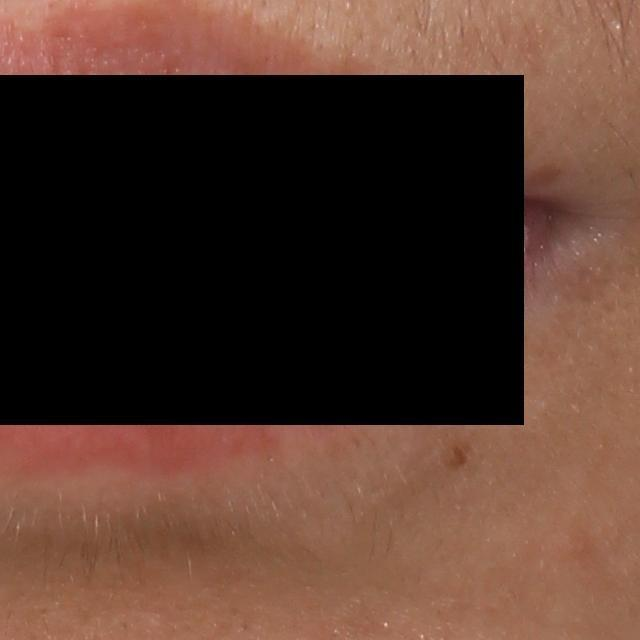comedo: (611, 20, 626, 38)
